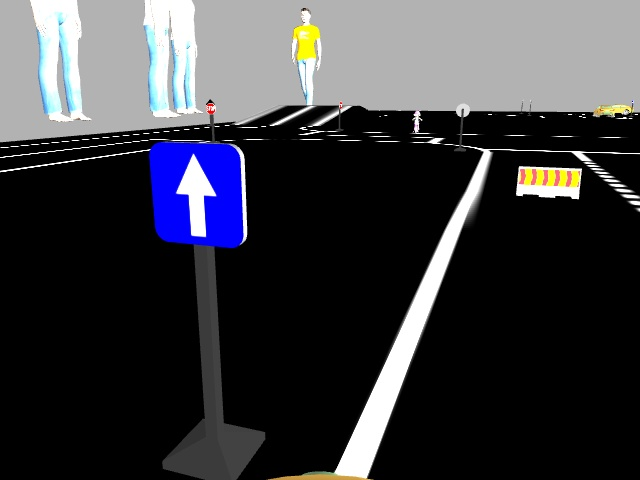ClosedRoadStand: (519, 165, 581, 197)
OneWay: (150, 145, 247, 245)
